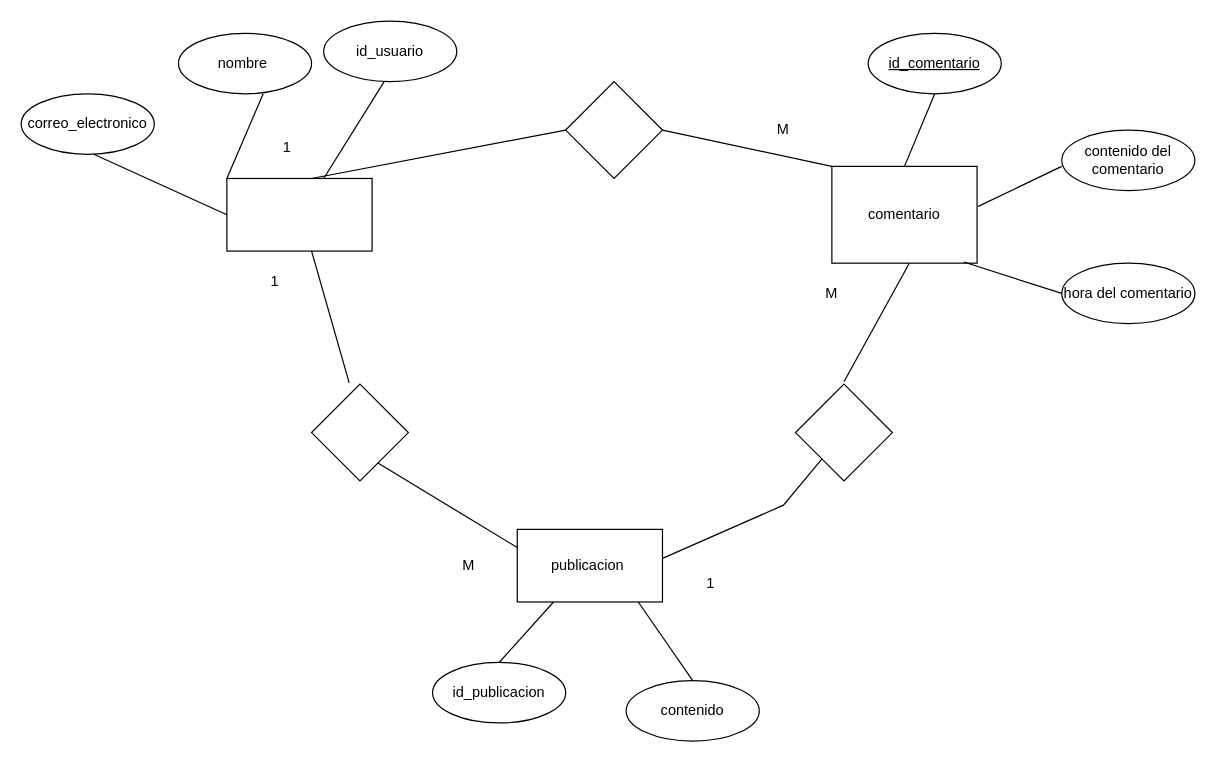
Some shapes in this 1216 by 762 pixel diagram are drawn without their labels. The centre of each missing label's shape, as x and y in pixels:
"escribe" belongs at point 613,129.
"hace" belongs at point 359,432.
"tiene" belongs at point 843,432.
"usuario" belongs at point 299,214.
